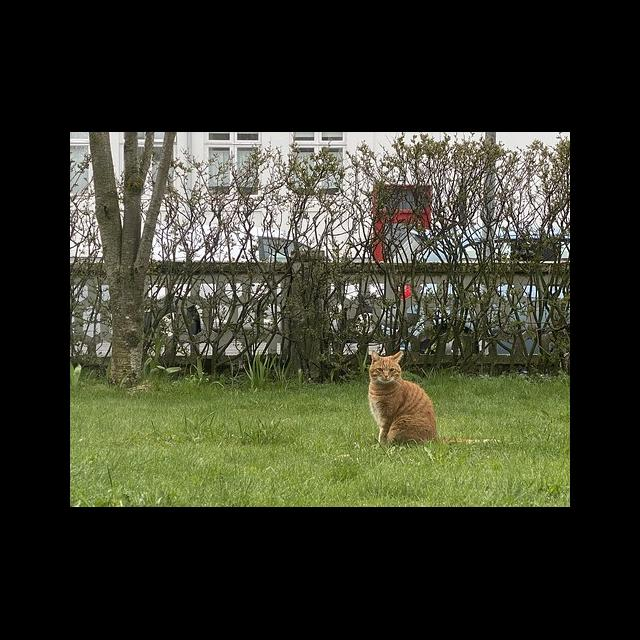animals: (368, 353, 438, 448)
